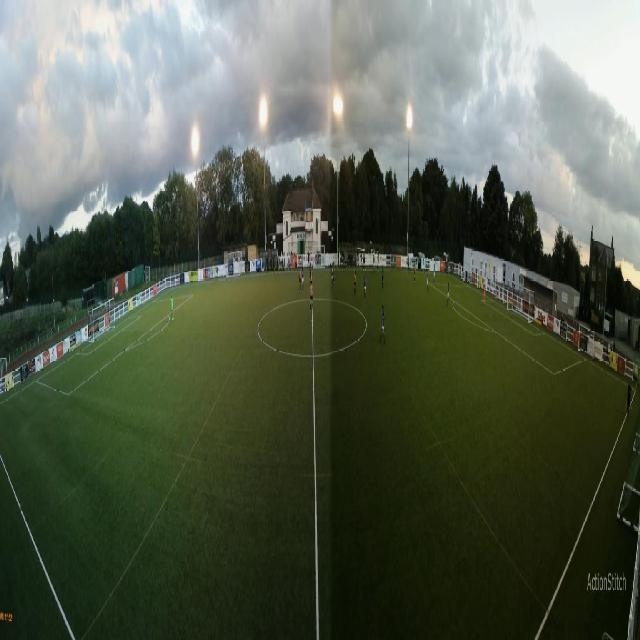ball: (368, 262, 369, 267)
player: (379, 303, 385, 347), (310, 279, 314, 313), (171, 292, 175, 322), (446, 282, 450, 307), (299, 266, 302, 295), (364, 273, 367, 301), (302, 266, 305, 292), (331, 262, 334, 288), (381, 264, 384, 288), (433, 263, 436, 285), (426, 270, 429, 292), (483, 285, 486, 306), (414, 263, 417, 284), (363, 250, 366, 271), (422, 258, 425, 276), (354, 268, 356, 295), (360, 253, 363, 271), (333, 260, 335, 286), (310, 262, 312, 286), (373, 254, 375, 275), (377, 252, 379, 273), (408, 255, 410, 274), (345, 252, 347, 271)
